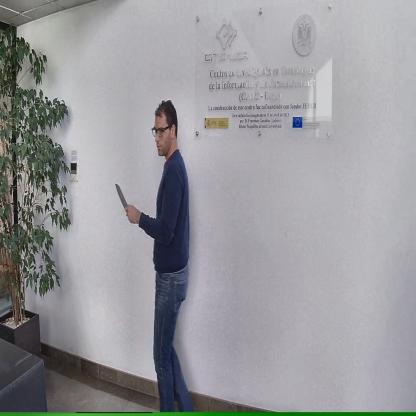knife: (113, 181, 133, 218)
